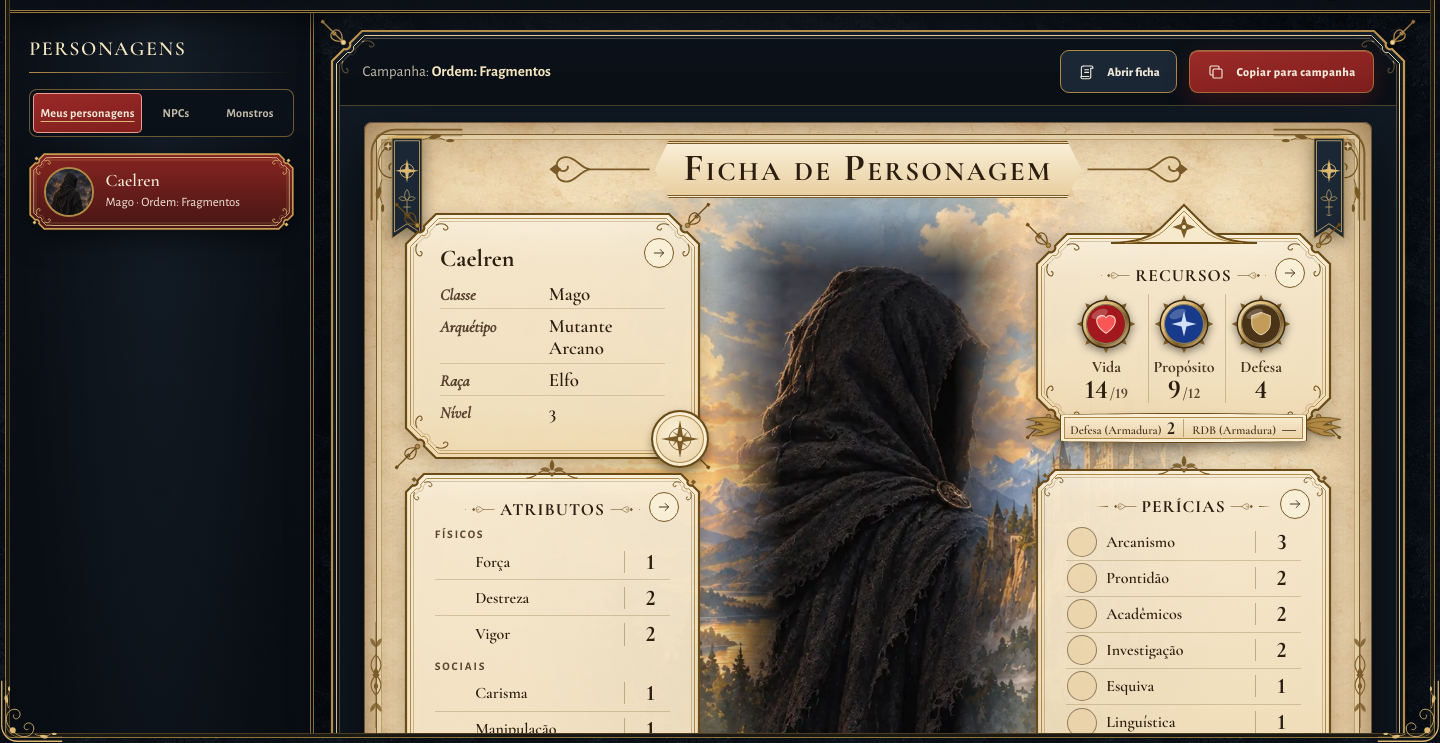
Scenario: navegação inicial › Personagens (7.1–7.3) › o atalho de um quadro do Resumo abre a ficha completa naquela seção
The image size is (1440, 743).
What coordinates should you click on to do the following:
click the button named "Abrir Atributos"
I would click on:
 (664, 507)
Its box is [649,492,679,522].
(page scrolled)
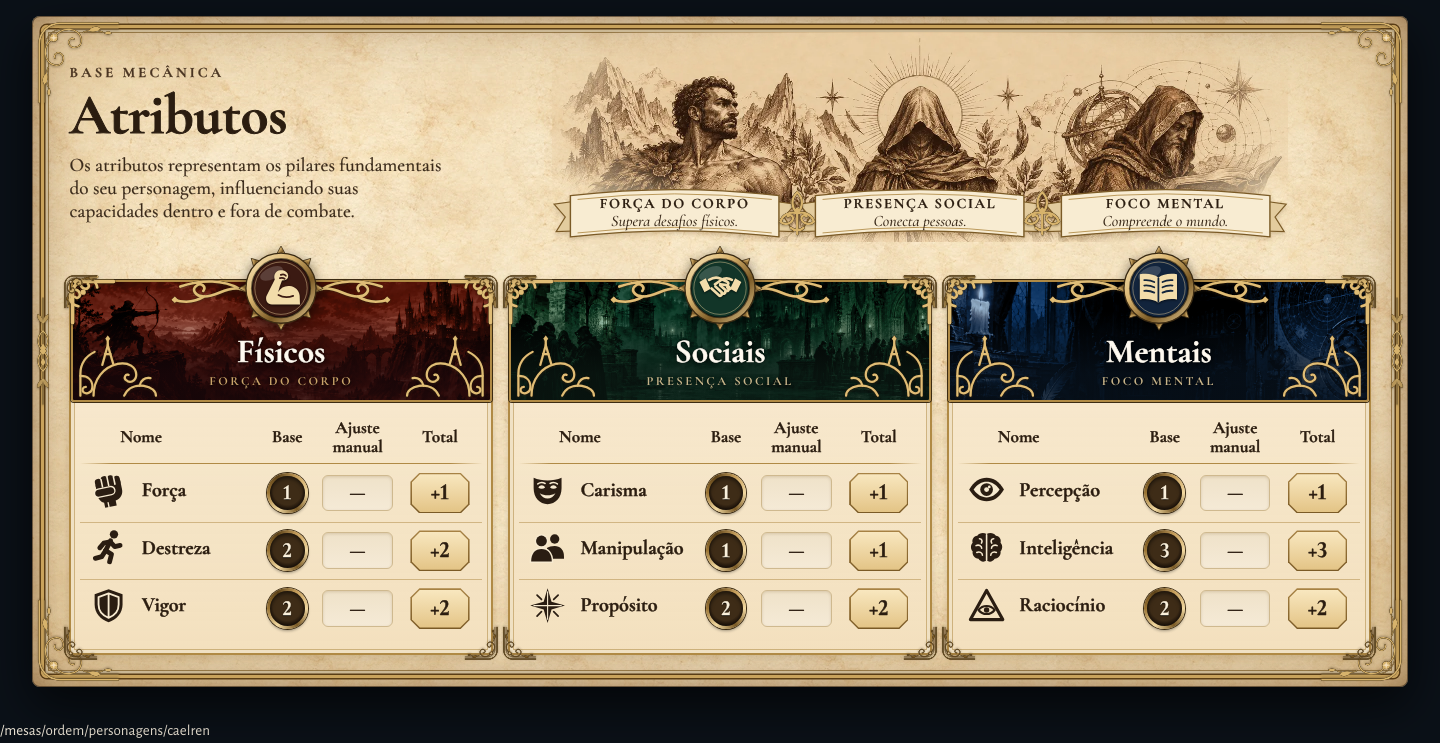
Now the text with test id "local" reads "/mesas/ordem/personagens/caelren", box [0,723,210,738]
